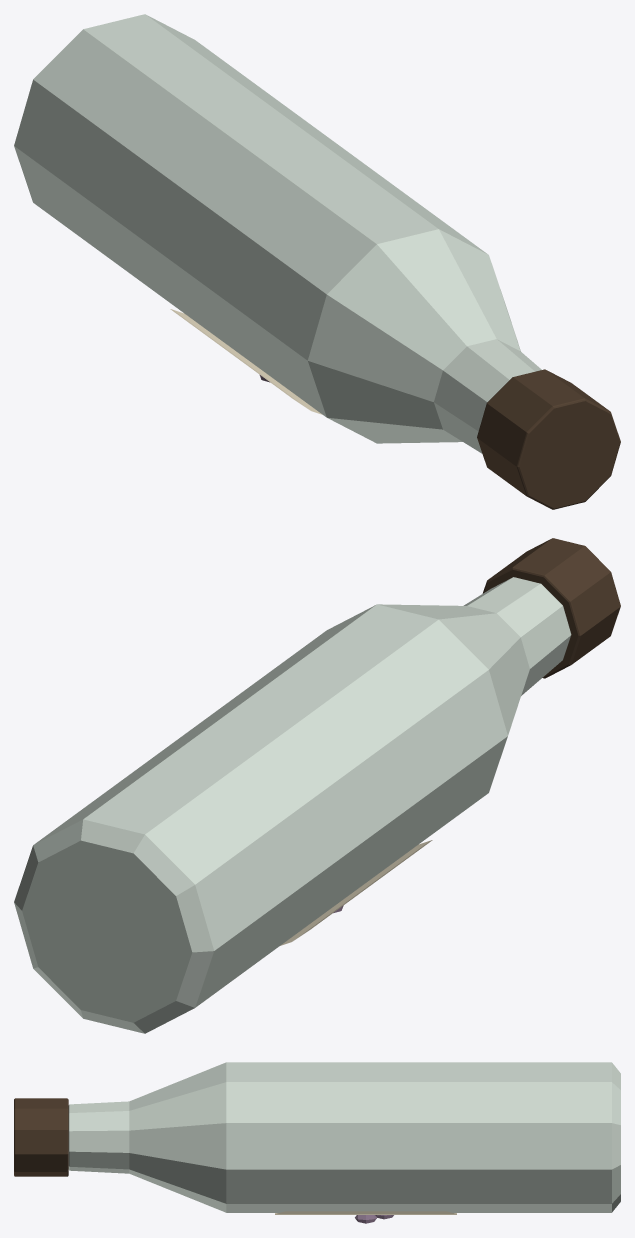
The model's file is balsamic_vinegar.glb.
3 views of the same model, one above another, from view 1: azimuth 30°, elevation 25°; view 2: azimuth 150°, elevation 25°; view 3: azimuth 270°, elevation 25° (orthographic). The views are drawn at different scales.
Visible parts, largest first — view 1: balsamic_vinegar; view 2: balsamic_vinegar; view 3: balsamic_vinegar.
Part boxes in pixels (x1,y1,x2,y2): balsamic_vinegar: (14,14,620,509); balsamic_vinegar: (14,538,620,1033); balsamic_vinegar: (14,1062,620,1223).
Bounding box in the file's own units: 0.05 × 0.0512 × 0.2.
